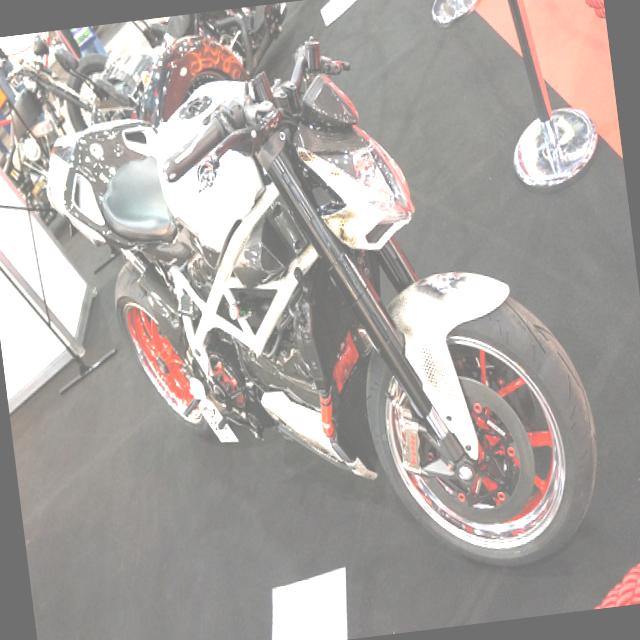Vehicle: (27, 5, 613, 618), (0, 25, 123, 233), (128, 2, 294, 120)
